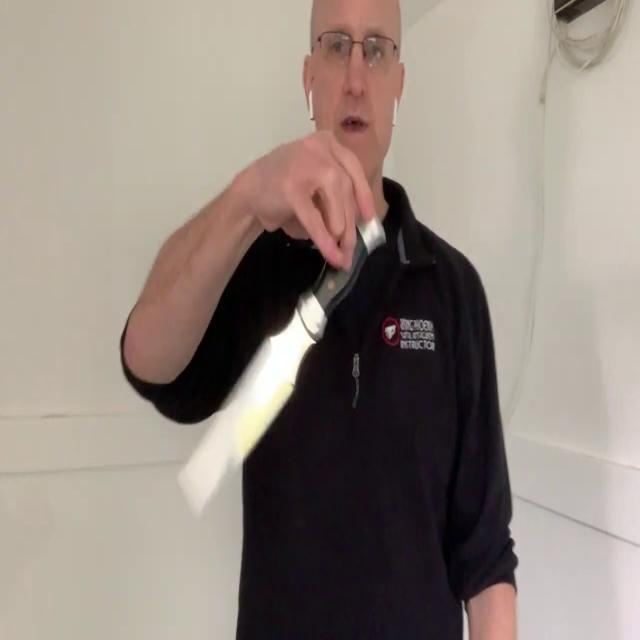Knife_Handle: (180, 128, 386, 515)
